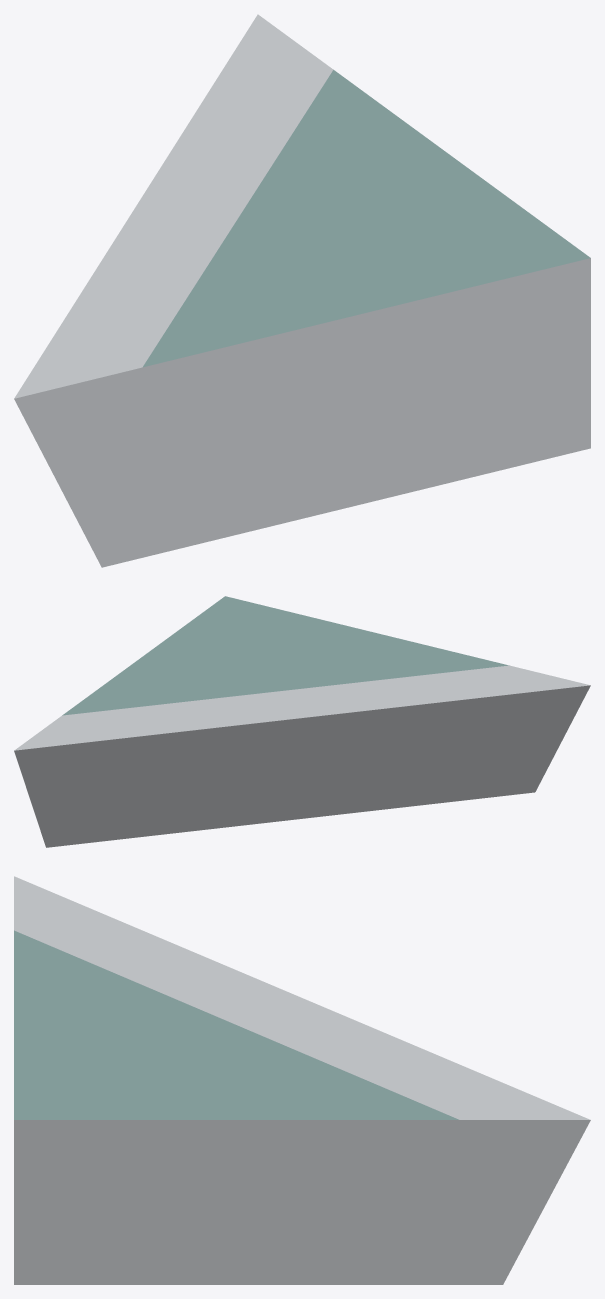
File: naturePack_142.gltf
3 renders of one model, top to bottom at view 1: azimuth 30°, elevation 25°; view 2: azimuth 150°, elevation 25°; view 3: azimuth 270°, elevation 25°, orthographic. The views are drawn at different scales.
Parts seen in each view (by area): view 1: Mesh1 Grey_Cliff_Top_Corner Model; view 2: Mesh1 Grey_Cliff_Top_Corner Model; view 3: Mesh1 Grey_Cliff_Top_Corner Model.
Part boxes in pixels (x1=…): Mesh1 Grey_Cliff_Top_Corner Model: x1=14, y1=14, x2=590, y2=567; Mesh1 Grey_Cliff_Top_Corner Model: x1=14, y1=596, x2=590, y2=847; Mesh1 Grey_Cliff_Top_Corner Model: x1=14, y1=876, x2=590, y2=1284.
Bounding box in the file's own units: 0.92 × 0.29 × 0.92.
